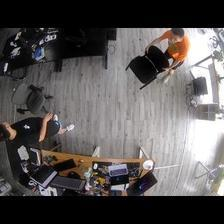normal: (131, 28, 194, 88), (1, 115, 78, 152)
